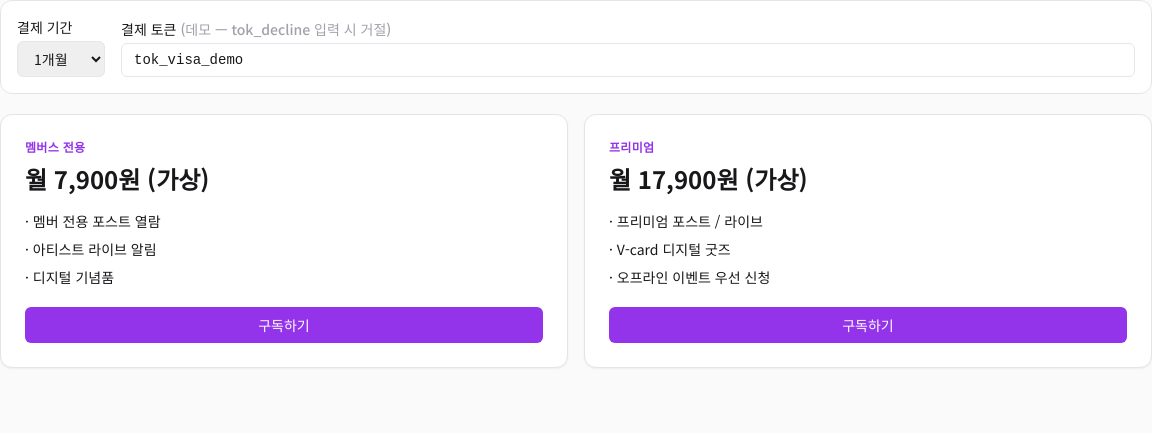
Test: SubscribePanel › surfaces a PG decline inline (no throw)
Click the button "구독하기" below "월 17,900원 (가상)".
click(868, 325)  # box top-left (609, 307), bottom-right (1127, 343)
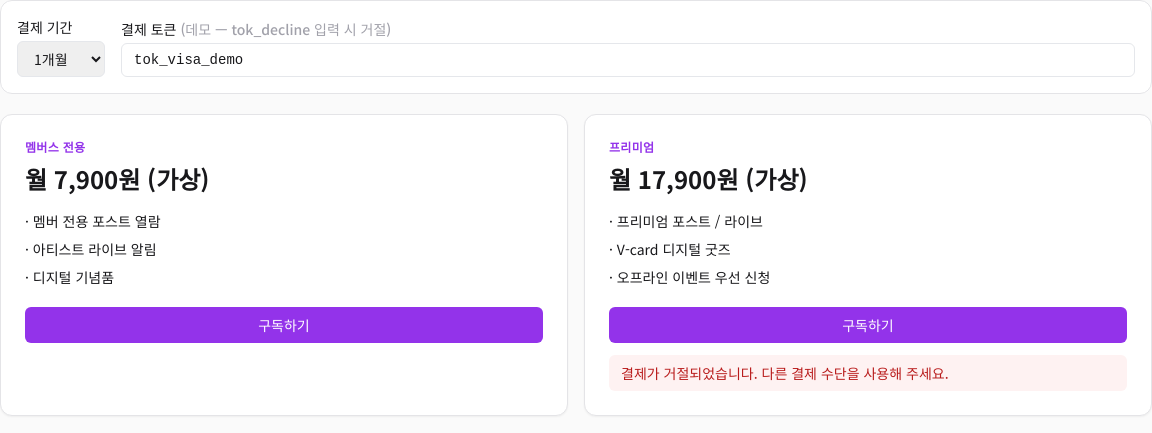
Check: the message shows "결제가 거절되었습니다", box top-left (621, 363), bottom-right (949, 383)
